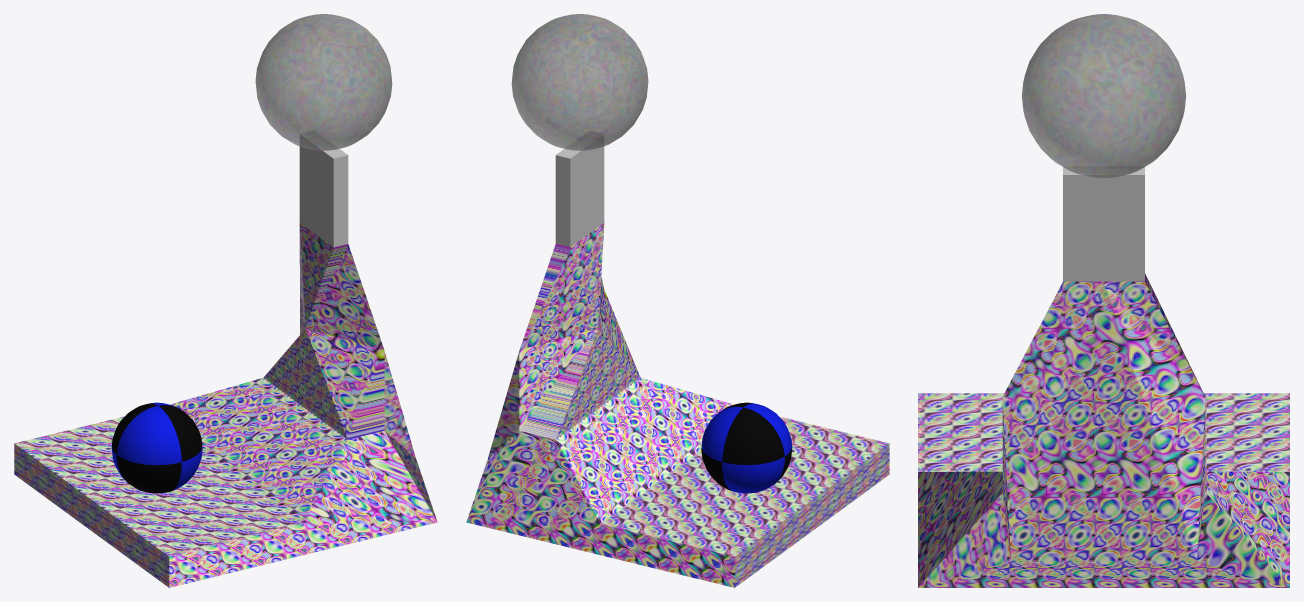
Rendered from Structure.obj.
3 views of the same model, side by side, from view 1: azimuth 30°, elevation 25°; view 2: azimuth 150°, elevation 25°; view 3: azimuth 270°, elevation 25° (orthographic). The views are drawn at different scales.
Parts seen in each view (by area): view 1: Cube_Cube.001, Sphere.001, Sphere, Cube.001_Cube.002; view 2: Cube_Cube.001, Sphere.001, Sphere, Cube.001_Cube.002; view 3: Cube_Cube.001, Sphere.001, Cube.001_Cube.002.
Boxes of the visible parts, x1,y1,x2,y2 form: Cube_Cube.001: (14, 223, 437, 587); Sphere.001: (255, 14, 392, 150); Sphere: (111, 402, 202, 493); Cube.001_Cube.002: (299, 131, 348, 247); Cube_Cube.001: (466, 223, 889, 587); Sphere.001: (511, 14, 648, 150); Sphere: (701, 402, 792, 493); Cube.001_Cube.002: (555, 131, 604, 247); Cube_Cube.001: (918, 273, 1289, 587); Sphere.001: (1021, 14, 1186, 178); Cube.001_Cube.002: (1063, 166, 1144, 281).
Bounding box in the file's own units: 5.33 × 7.94 × 4.91.
Materials: 4 (3 with a texture image).
